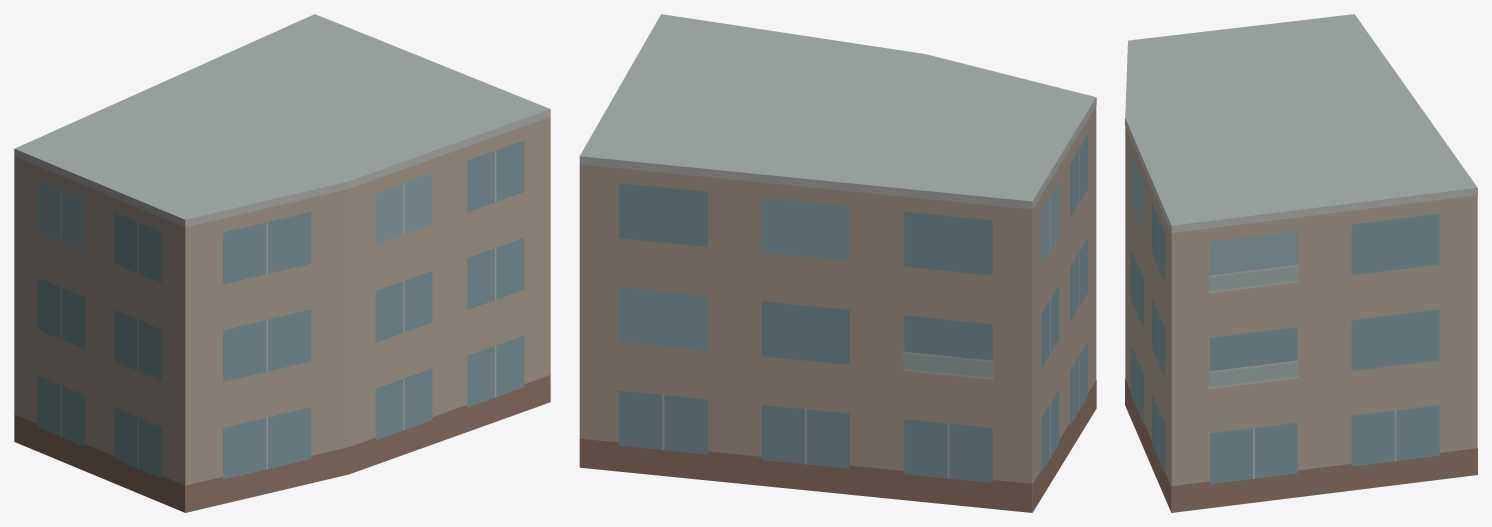
File: survey-upis-32931111.glb
3 renders of one model, left to right at view 1: azimuth 30°, elevation 25°; view 2: azimuth 150°, elevation 25°; view 3: azimuth 270°, elevation 25°, orthographic. The views are drawn at different scales.
Parts seen in each view (by area): view 1: survey-upis-32931111.tmp; view 2: survey-upis-32931111.tmp; view 3: survey-upis-32931111.tmp.
Boxes of the visible parts, x1,y1,x2,y2 form: survey-upis-32931111.tmp: [14, 14, 550, 512]; survey-upis-32931111.tmp: [579, 14, 1096, 512]; survey-upis-32931111.tmp: [1125, 14, 1477, 512].
Bounding box in the file's own units: 14.88 × 9.4 × 10.47.
